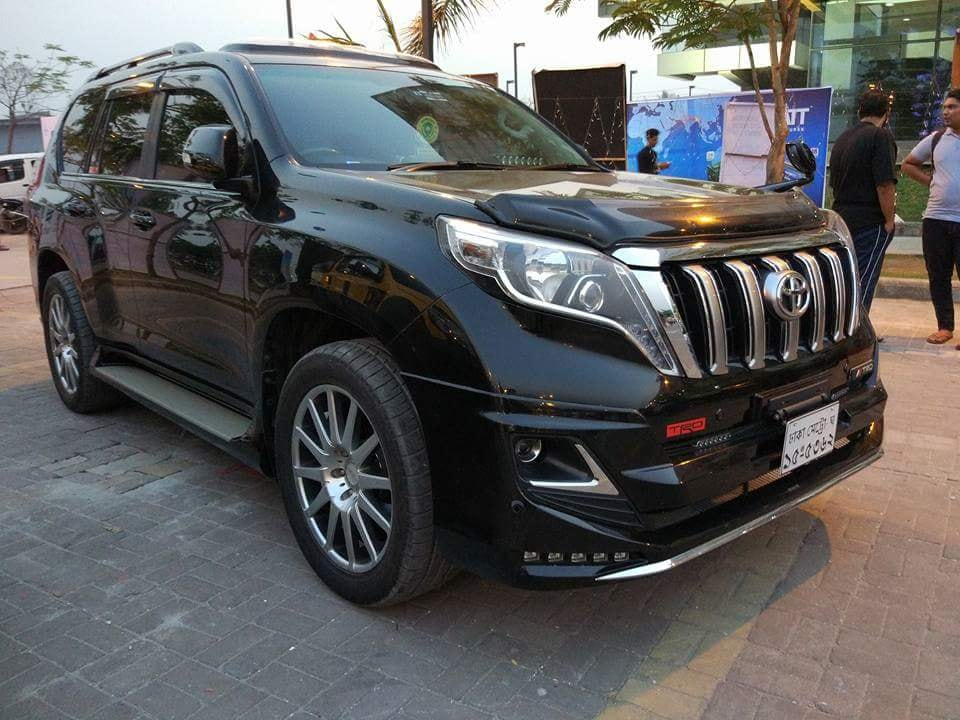registration_plate: (780, 400, 840, 475)
